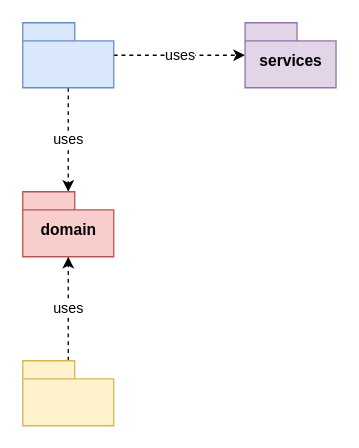
This 359x448 diagram has some shape labels left out. The centre of each missing label's shape, as x and y in pixels:
"data" goes at (x=67, y=392).
"ui" goes at (x=67, y=54).
